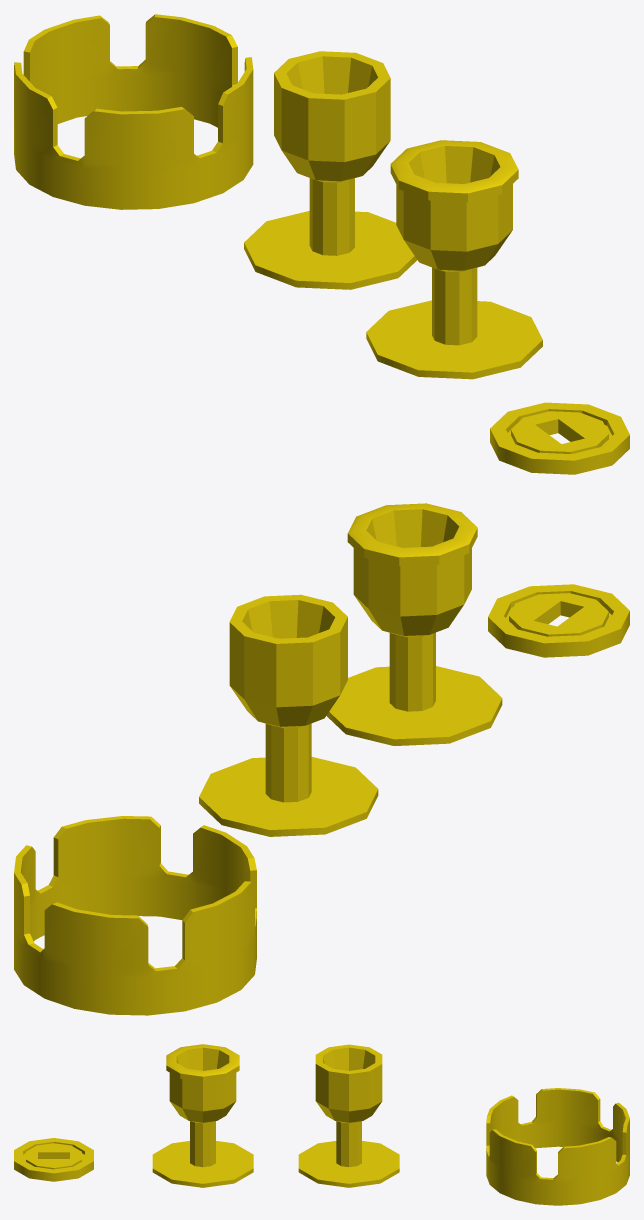
The model's file is Gold parts.fbx.
The picture shows the model from 3 angles, top to bottom: view 1: azimuth 30°, elevation 25°; view 2: azimuth 150°, elevation 25°; view 3: azimuth 270°, elevation 25°; orthographic projection. The views are drawn at different scales.
Parts seen in each view (by area): view 1: Crown, Copa3, Copa4, coin; view 2: Crown, Copa3, Copa4, coin; view 3: Crown, Copa3, Copa4, coin.
Boxes of the visible parts, x1,y1,x2,y2 form: Crown: [14, 14, 253, 209]; Copa3: [366, 140, 542, 379]; Copa4: [244, 51, 417, 289]; coin: [490, 402, 629, 474]; Crown: [14, 816, 256, 1015]; Copa3: [326, 503, 502, 745]; Copa4: [199, 594, 378, 836]; coin: [488, 584, 629, 657]; Crown: [486, 1088, 629, 1205]; Copa3: [152, 1044, 253, 1187]; Copa4: [298, 1044, 399, 1187]; coin: [14, 1138, 93, 1181].
Size of the model in its own units: 0.9276 by 0.8759 by 3.97.
